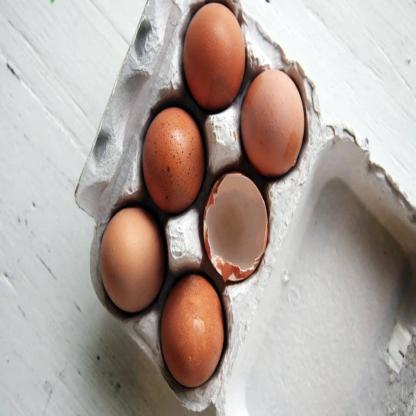egg: (222, 55, 309, 186), (169, 0, 255, 121), (126, 90, 208, 216), (149, 268, 226, 390), (92, 190, 162, 320)
